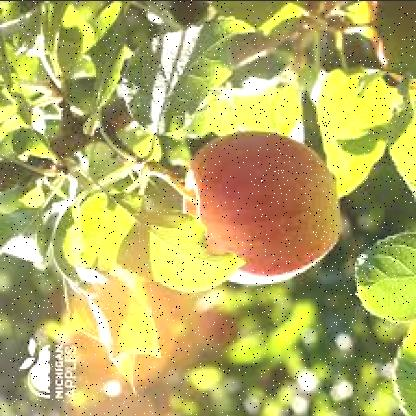apple: (194, 128, 348, 284)
